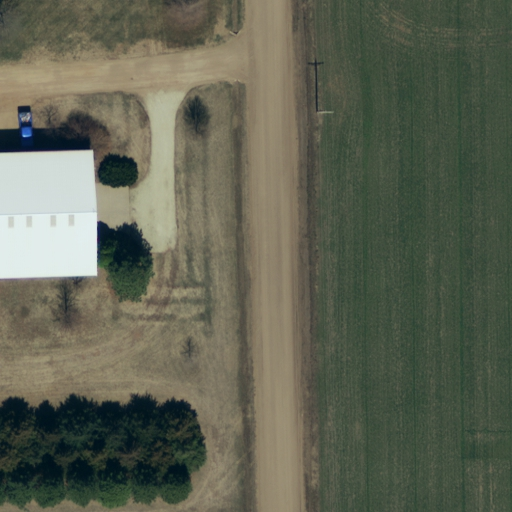DT: (311, 102, 339, 123)
